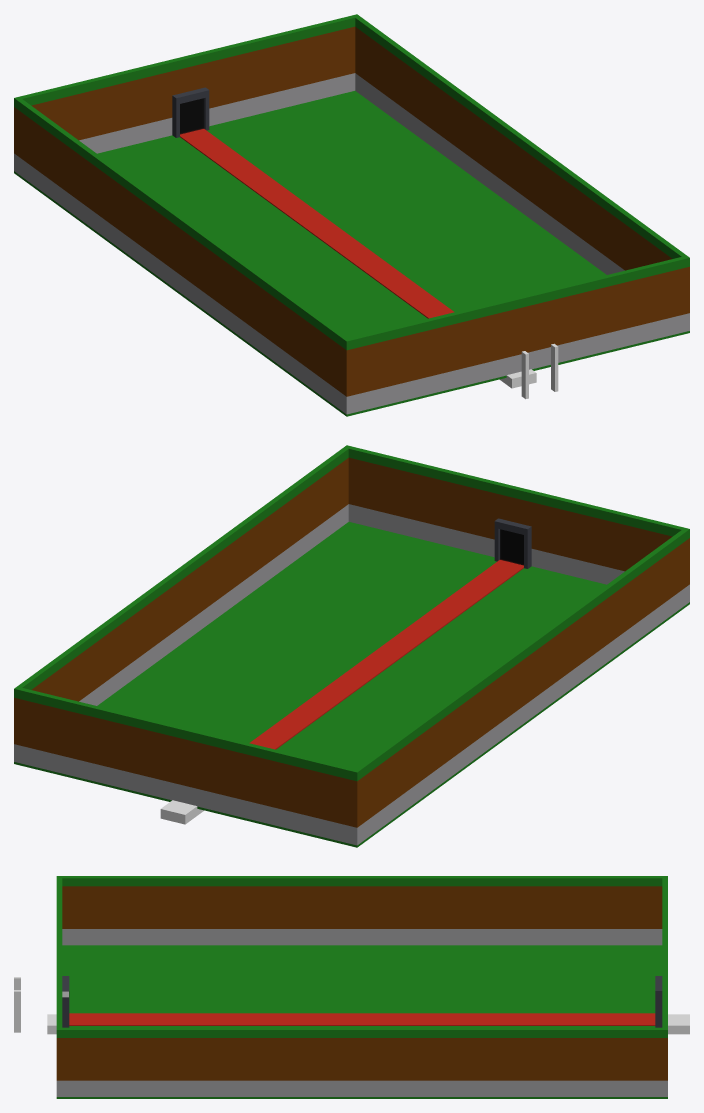
Rendered from Map.fbx.
The picture shows the model from 3 angles, top to bottom: view 1: azimuth 30°, elevation 25°; view 2: azimuth 150°, elevation 25°; view 3: azimuth 270°, elevation 25°; orthographic projection. The views are drawn at different scales.
Visible parts, largest first — view 1: w; view 2: w, Cube; view 3: w, Cube.
Boxes of the visible parts, bbox=[...] form: w: bbox=[14, 14, 689, 416]; w: bbox=[14, 445, 689, 847]; Cube: bbox=[160, 800, 204, 824]; w: bbox=[56, 876, 667, 1098]; Cube: bbox=[47, 1014, 689, 1034].
Size of the model in its own units: 7424 by 1702 by 13786.
